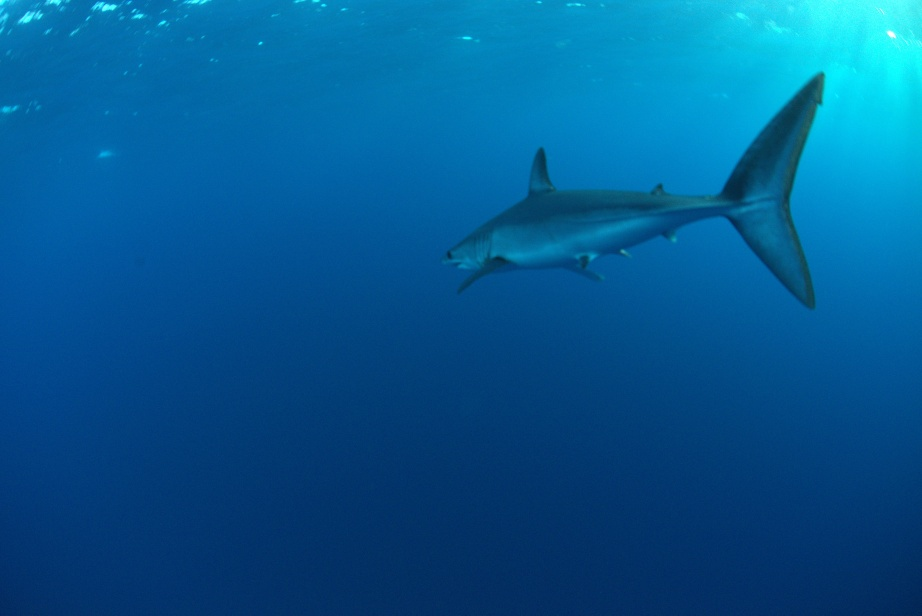Mako: (422, 65, 857, 318)
